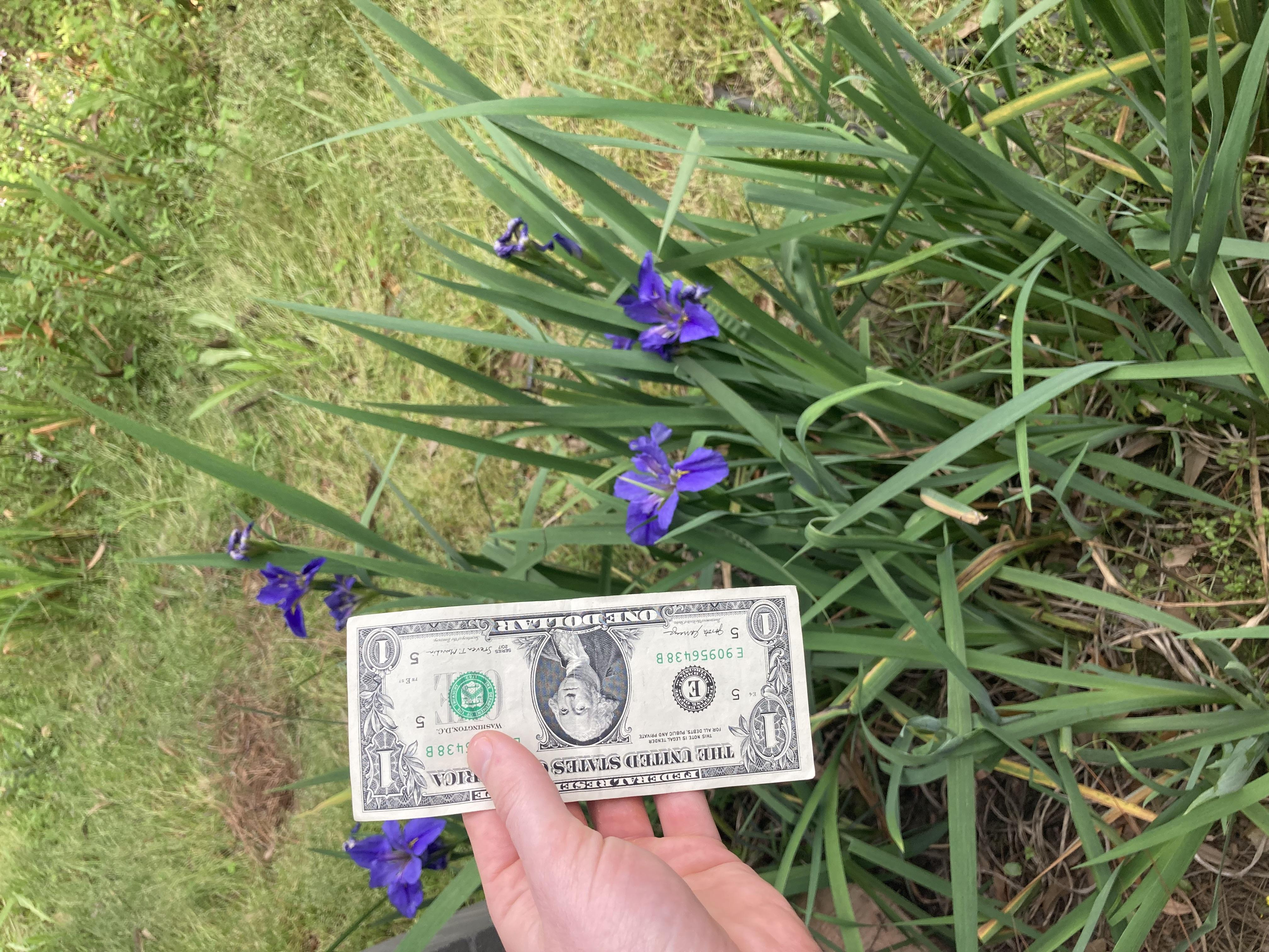one-front: (172, 258, 492, 613)
